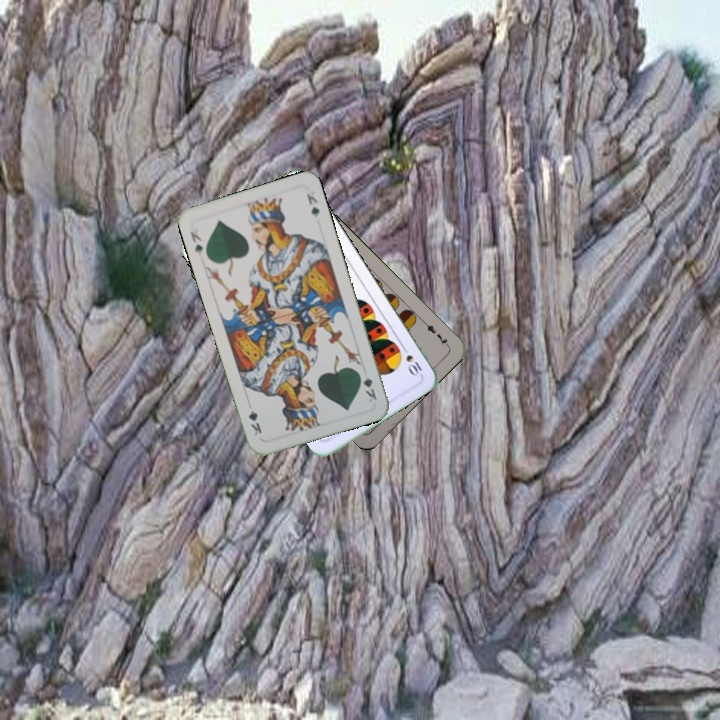E7: (420, 317, 452, 349)
GK: (354, 367, 379, 405), (186, 227, 206, 256)
S10: (398, 341, 425, 379)
